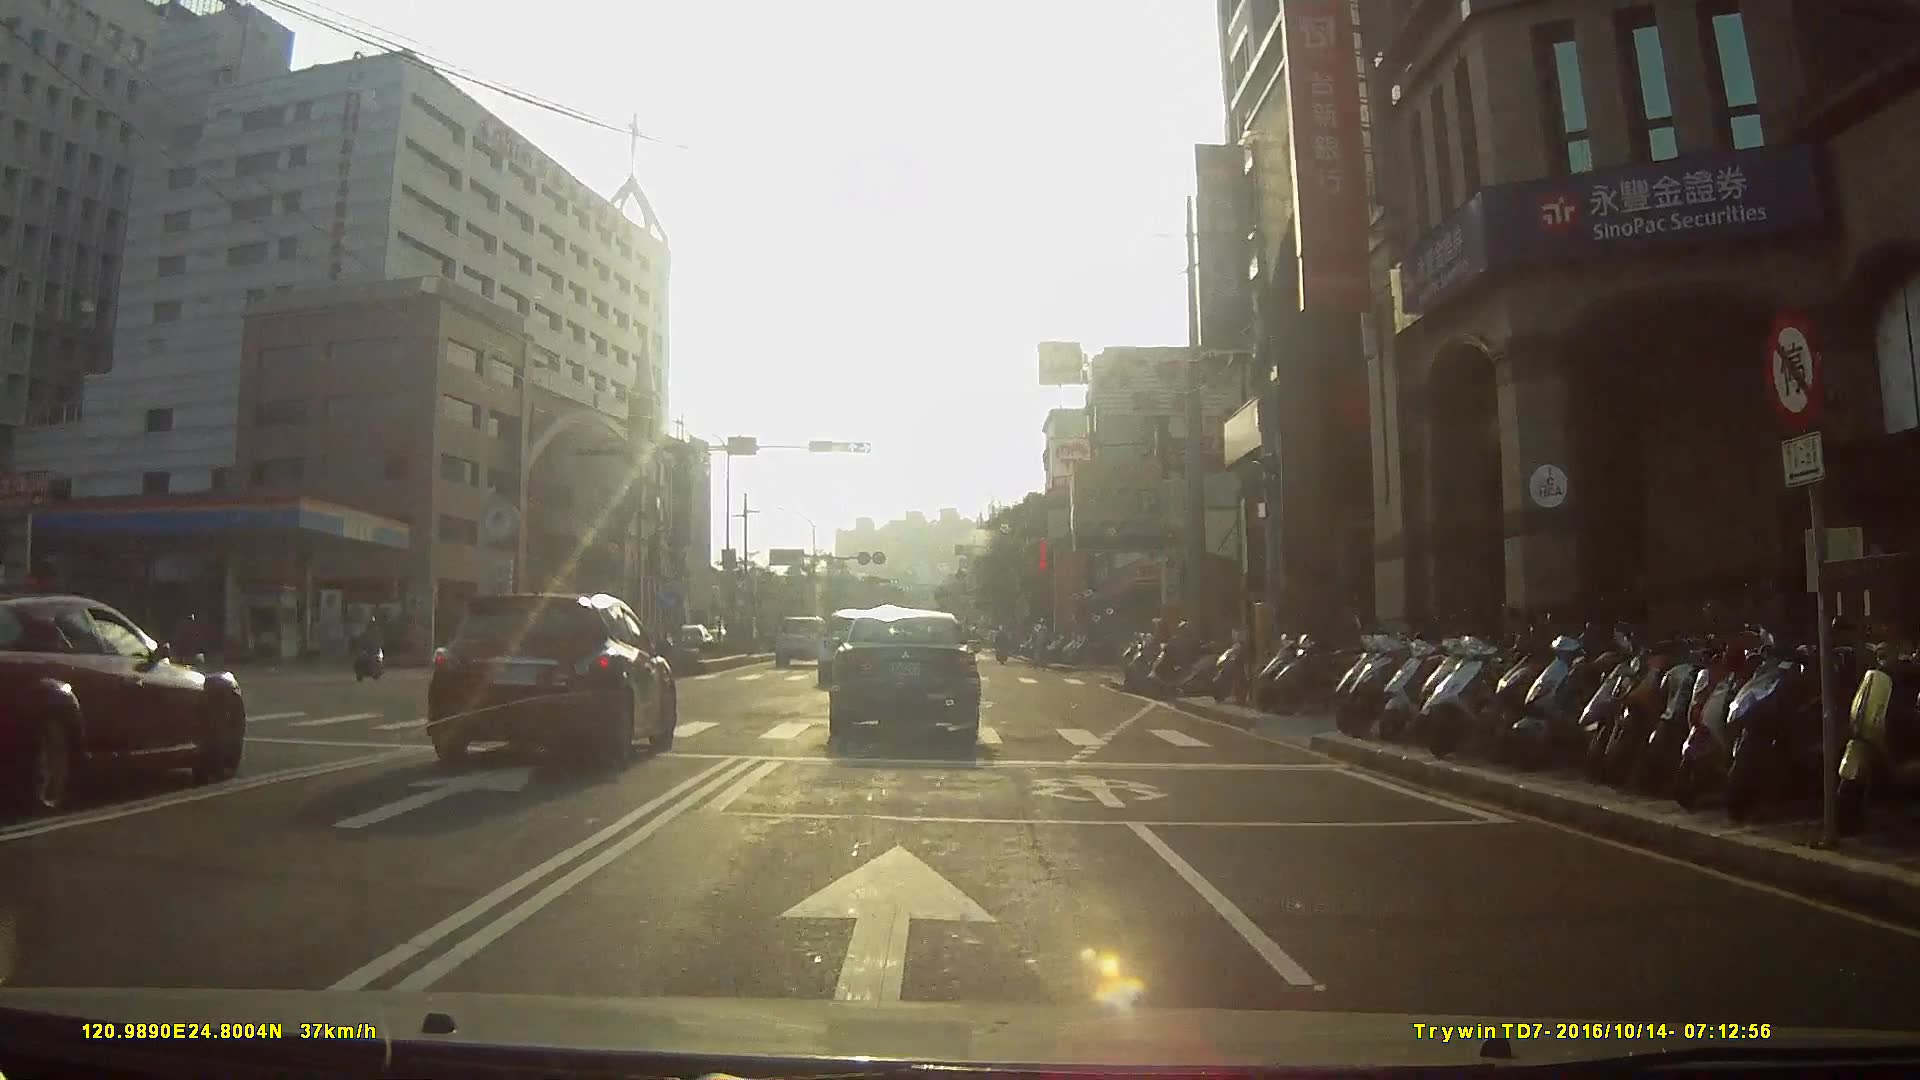rider: (1138, 619, 1230, 702), (168, 612, 208, 685), (358, 617, 393, 683)
vehicle: (1, 590, 248, 812), (418, 587, 689, 776), (823, 607, 994, 746), (777, 611, 836, 666)
